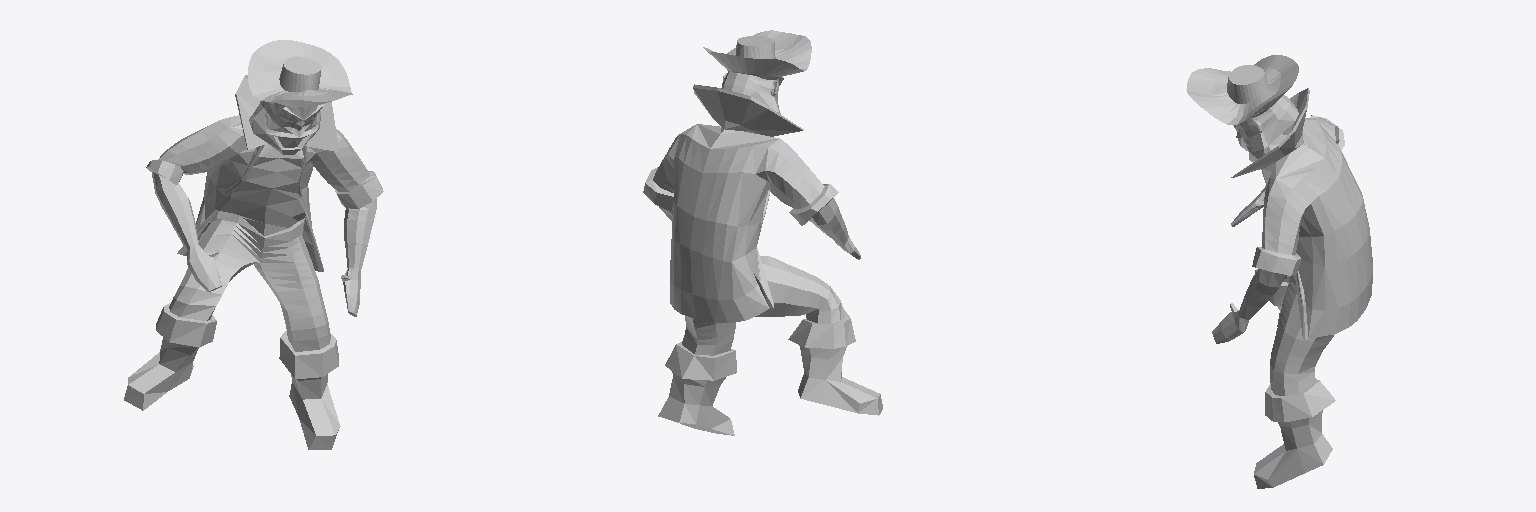
Rendered from PirataCelebracion_000184.obj.
The picture shows the model from 3 angles: view 1: azimuth 30°, elevation 25°; view 2: azimuth 150°, elevation 25°; view 3: azimuth 270°, elevation 25°; orthographic projection.
Visible parts, largest first — view 1: Pirata_PirataH; view 2: Pirata_PirataH; view 3: Pirata_PirataH.
Part boxes in pixels (x1,y1,x2,y2): Pirata_PirataH: (124,40,383,449); Pirata_PirataH: (643,30,882,435); Pirata_PirataH: (1186,55,1372,488).
Bounding box in the file's own units: 4.71 × 7.44 × 3.13.